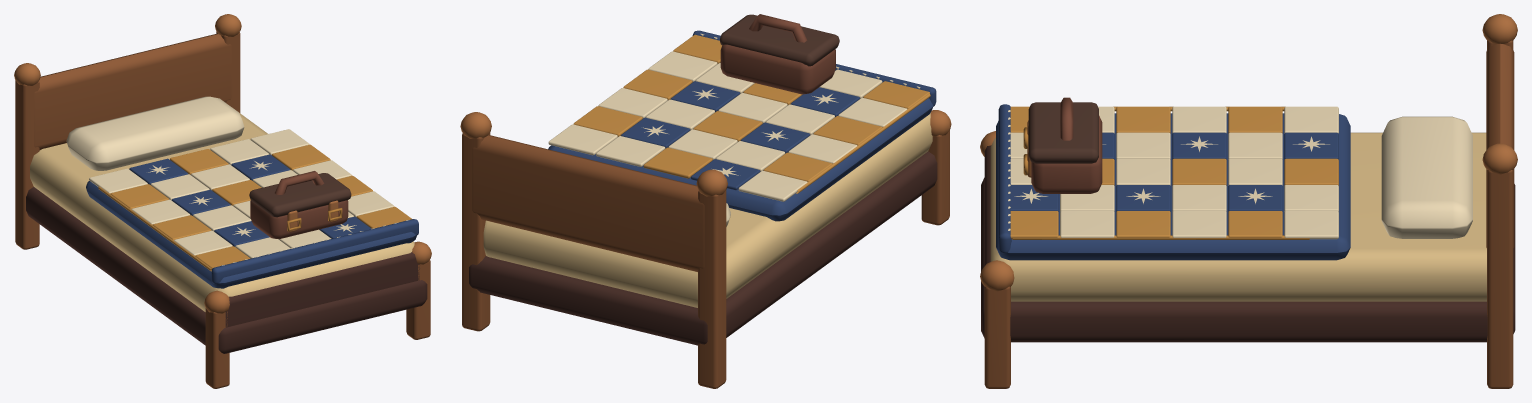
The model's file is bedroom-bed.glb.
3 renders of one model, left to right at view 1: azimuth 30°, elevation 25°; view 2: azimuth 150°, elevation 25°; view 3: azimuth 270°, elevation 25°, orthographic. The views are drawn at different scales.
Visible parts, largest first — view 1: bedroom_bed_pivot_Mesh; view 2: bedroom_bed_pivot_Mesh; view 3: bedroom_bed_pivot_Mesh.
Boxes of the visible parts, x1,y1,x2,y2 form: bedroom_bed_pivot_Mesh: (14,14,431,388); bedroom_bed_pivot_Mesh: (460,14,951,388); bedroom_bed_pivot_Mesh: (980,14,1517,388).
Size of the model in its own units: 1.83 by 1.42 by 2.88.
